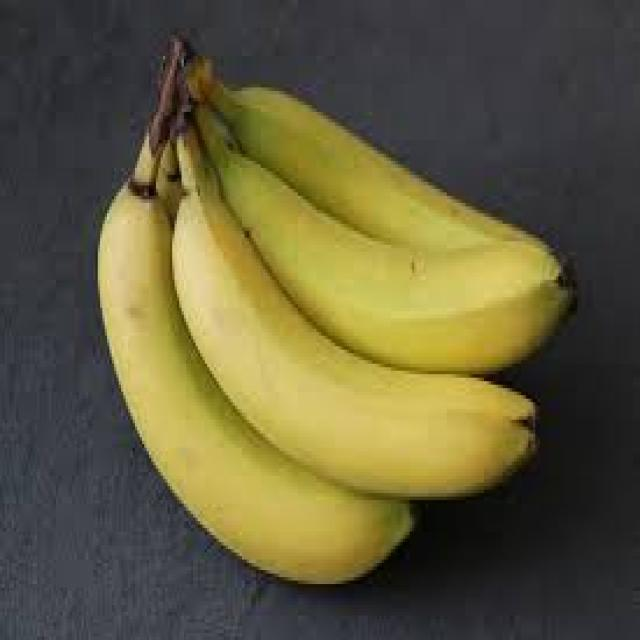Banana: (97, 186, 410, 583), (173, 193, 534, 497), (196, 107, 567, 373), (196, 59, 535, 249)
